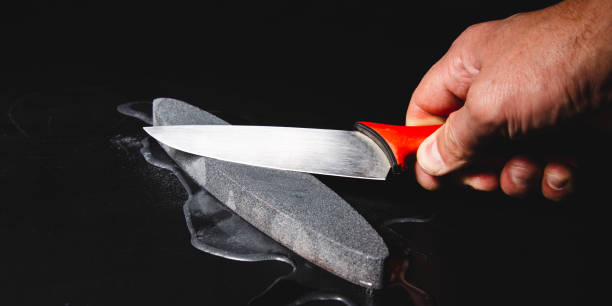knife: (136, 114, 597, 184)
